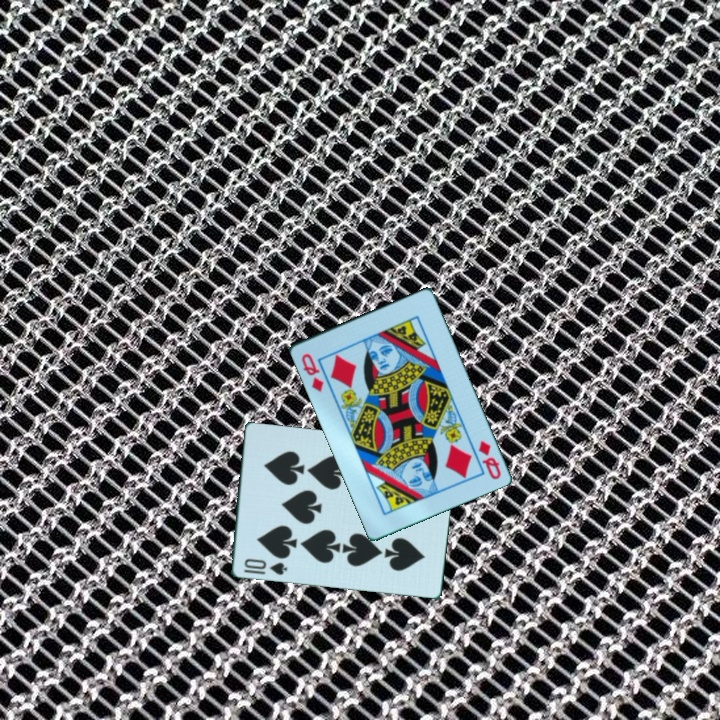10s: (240, 555, 289, 578)
Qd: (474, 437, 504, 482), (297, 350, 326, 395)
